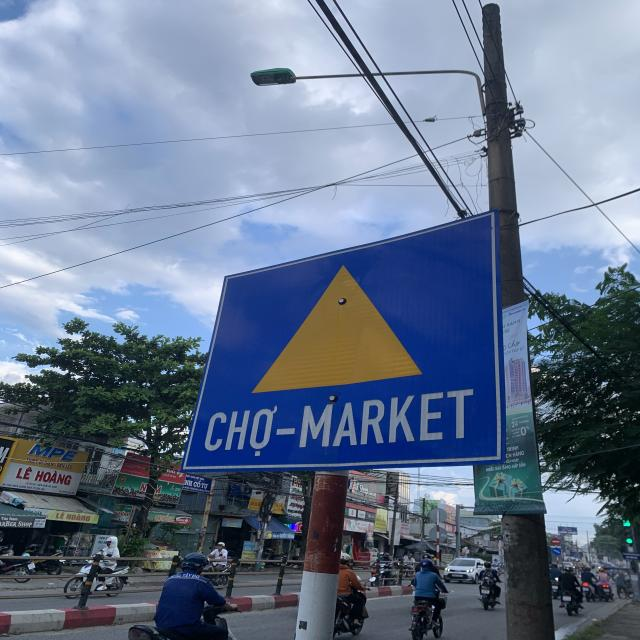Cho_Quay_Xe: (180, 216, 504, 470)
